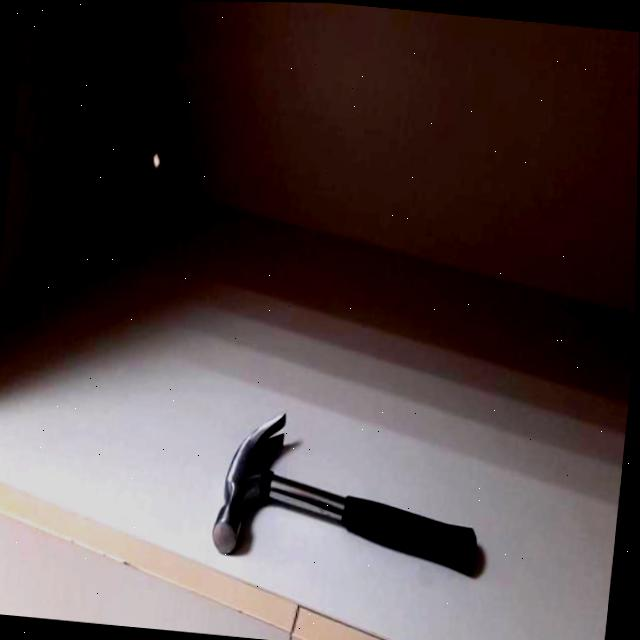hammer: (216, 415, 490, 569)
